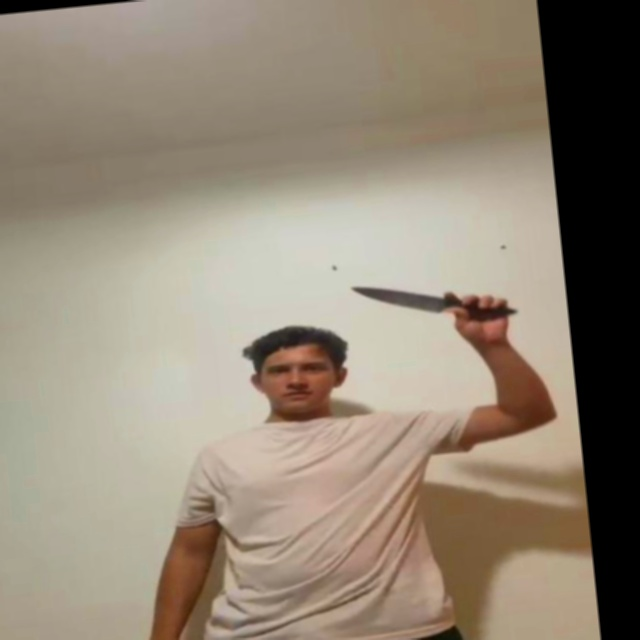Sharp-Object: (355, 276, 445, 321)
